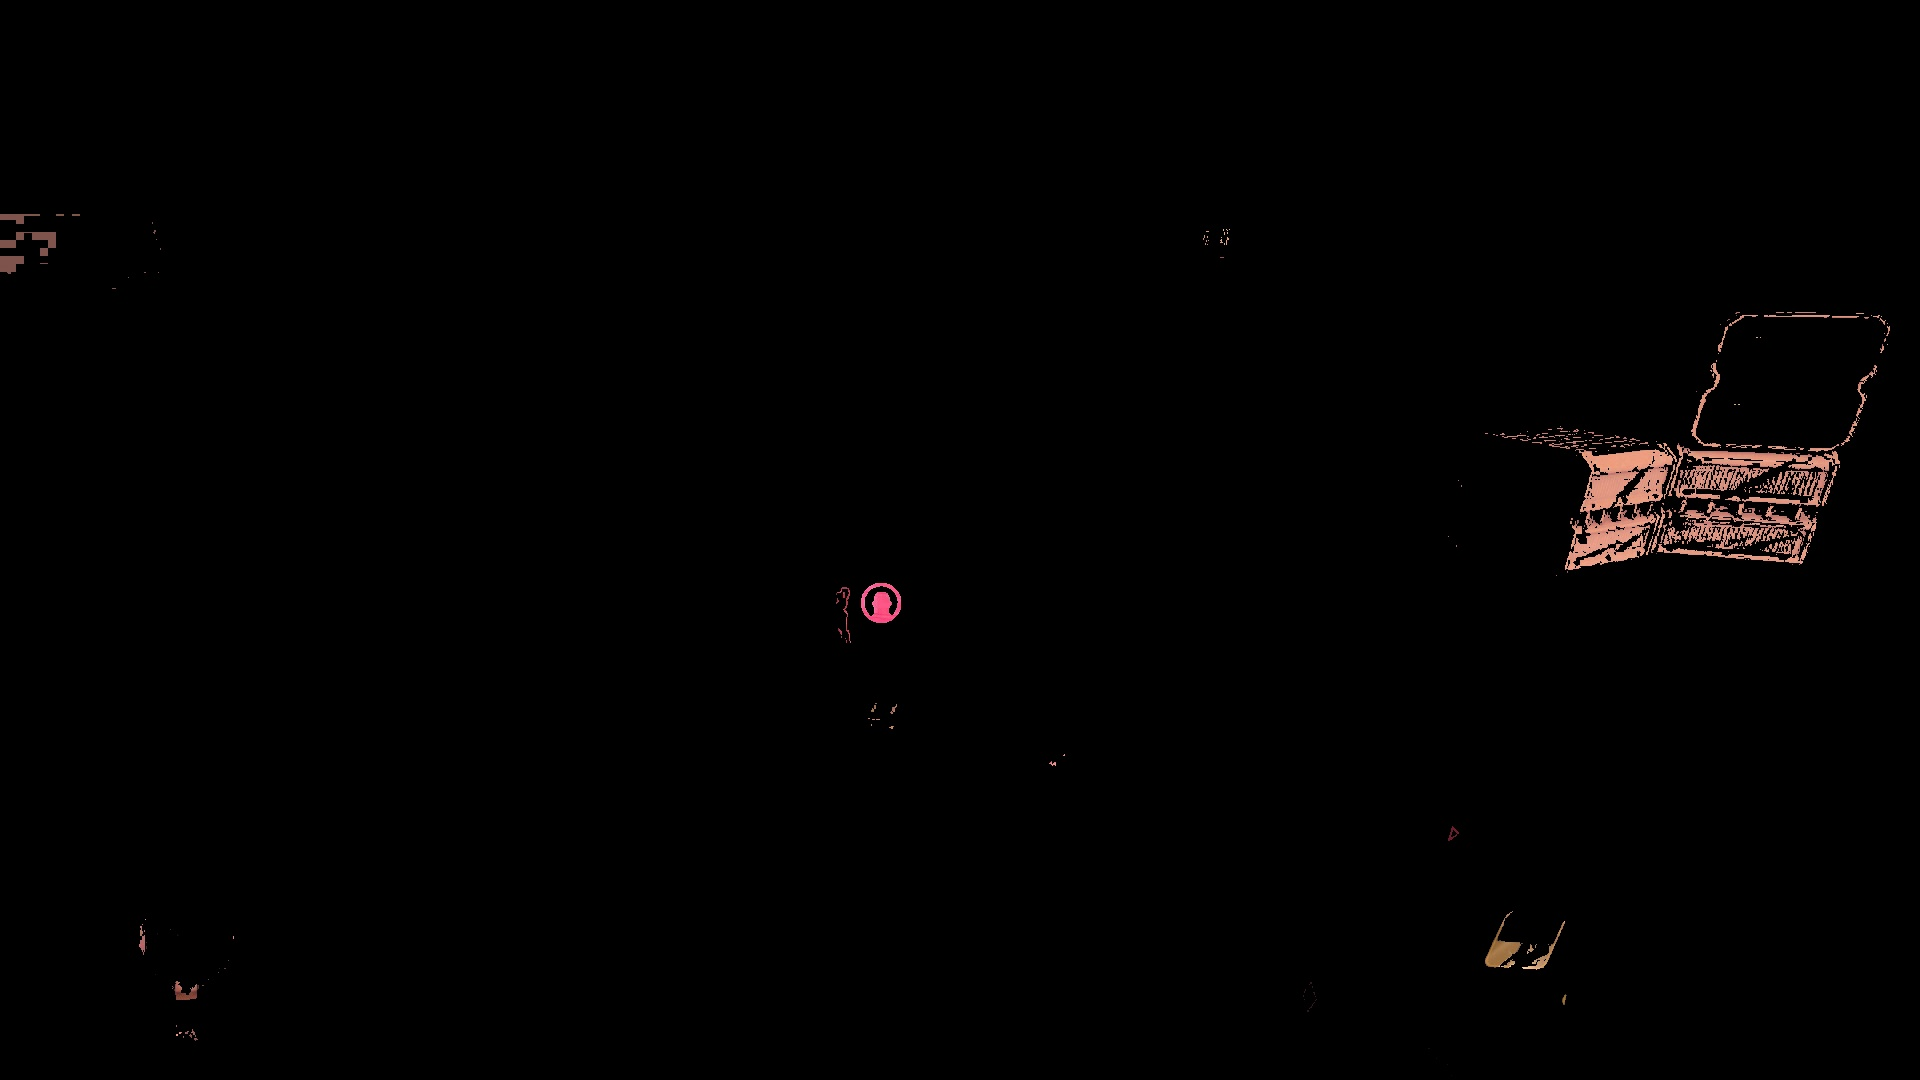widowmaker: (835, 587, 851, 647)
